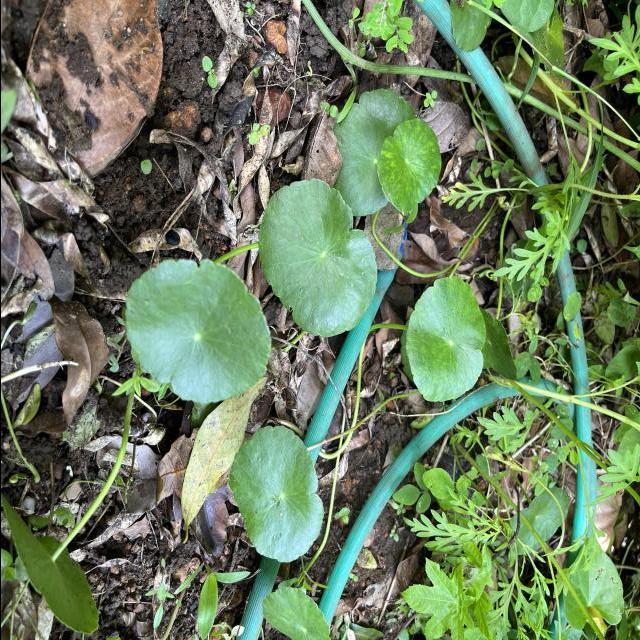Bacopa monnieri: (122, 255, 272, 405), (256, 176, 378, 339), (226, 424, 325, 564), (403, 274, 487, 404), (386, 117, 442, 214), (260, 585, 333, 640)
